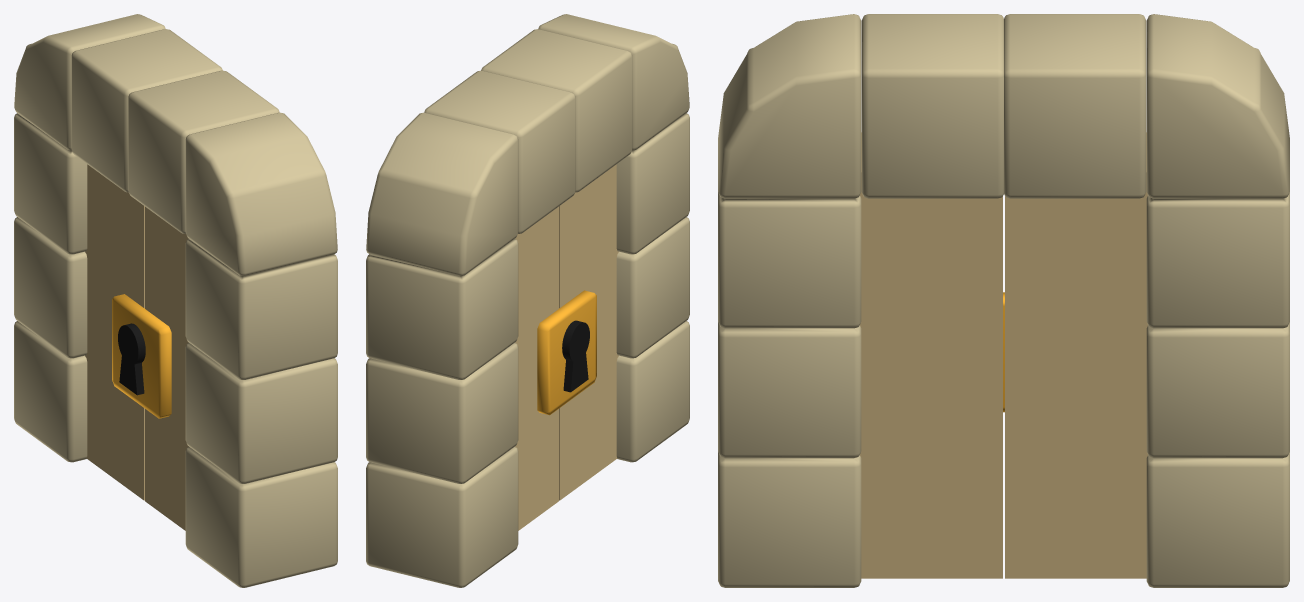
The model's file is PortaSingle.fbx.
The picture shows the model from 3 angles, left to right: view 1: azimuth 30°, elevation 25°; view 2: azimuth 150°, elevation 25°; view 3: azimuth 270°, elevation 25°; orthographic projection. The views are drawn at different scales.
Parts seen in each view (by area): view 1: Door.001, DoorPanelLeft, DoorPanelRight, Lock, EntradaBlack.002; view 2: Door.001, DoorPanelRight, DoorPanelLeft, Lock, EntradaBlack.002; view 3: Door.001, DoorPanelLeft, DoorPanelRight.
Part boxes in pixels (left/top/right/bottom): Door.001: left=14, top=14, right=337, bottom=587; DoorPanelLeft: left=85, top=164, right=144, bottom=500; DoorPanelRight: left=145, top=206, right=188, bottom=530; Lock: left=112, top=294, right=171, bottom=418; EntradaBlack.002: left=118, top=323, right=145, bottom=395; Door.001: left=366, top=14, right=689, bottom=587; DoorPanelRight: left=559, top=164, right=618, bottom=500; DoorPanelLeft: left=515, top=206, right=558, bottom=530; Lock: left=537, top=290, right=596, bottom=415; EntradaBlack.002: left=562, top=320, right=589, bottom=392; Door.001: left=718, top=14, right=1289, bottom=587; DoorPanelLeft: left=1005, top=132, right=1147, bottom=578; DoorPanelRight: left=860, top=132, right=1002, bottom=578.
Bounding box in the file's own units: 209 × 52.29 × 209.
